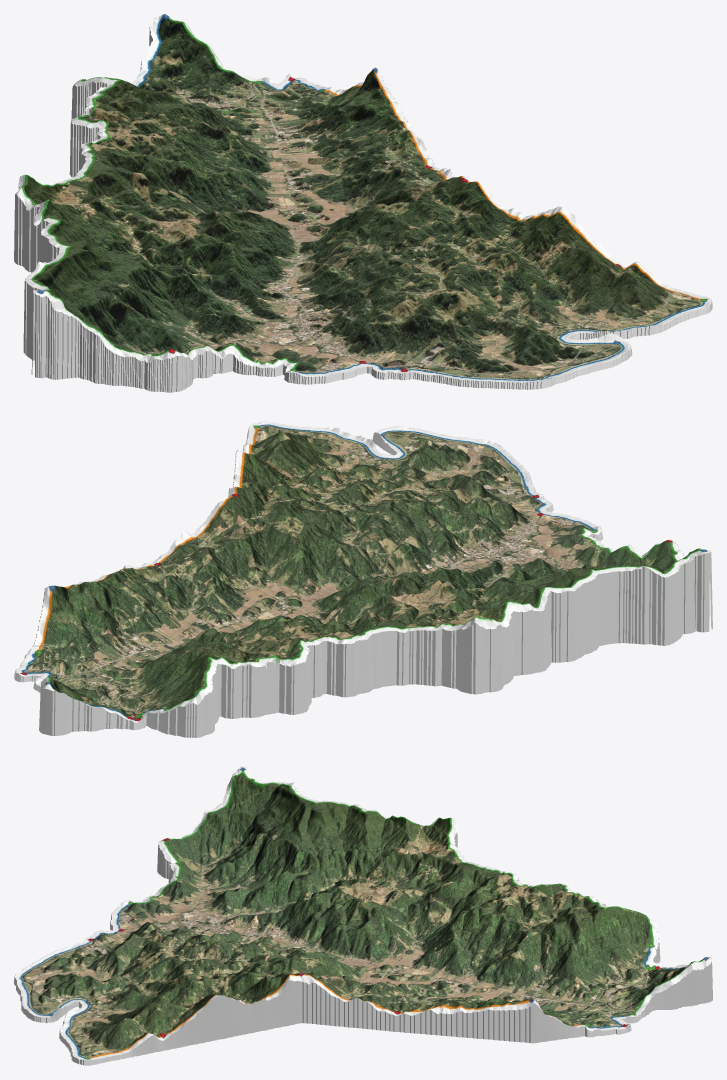
The picture shows the model from 3 angles, top to bottom: view 1: azimuth 30°, elevation 25°; view 2: azimuth 150°, elevation 25°; view 3: azimuth 270°, elevation 25°; orthographic projection. The views are drawn at different scales.
Bounding box in the file's own units: 1 × 0.1367 × 1.28.
1 material, 1 textured.
